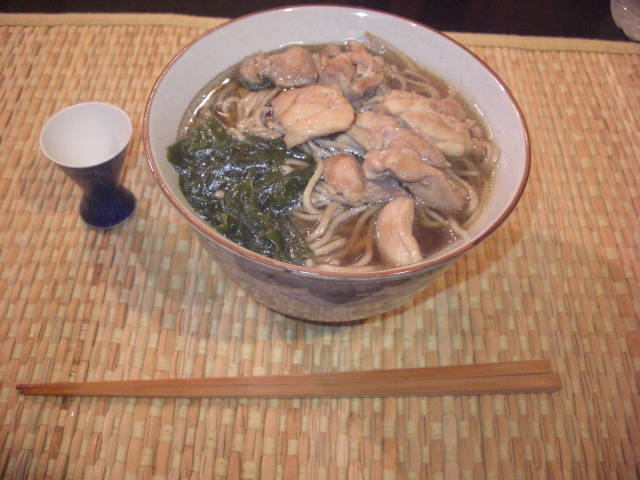Soba: (199, 55, 490, 272)
